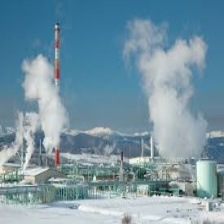smoke: (135, 16, 209, 166), (7, 56, 69, 153)
